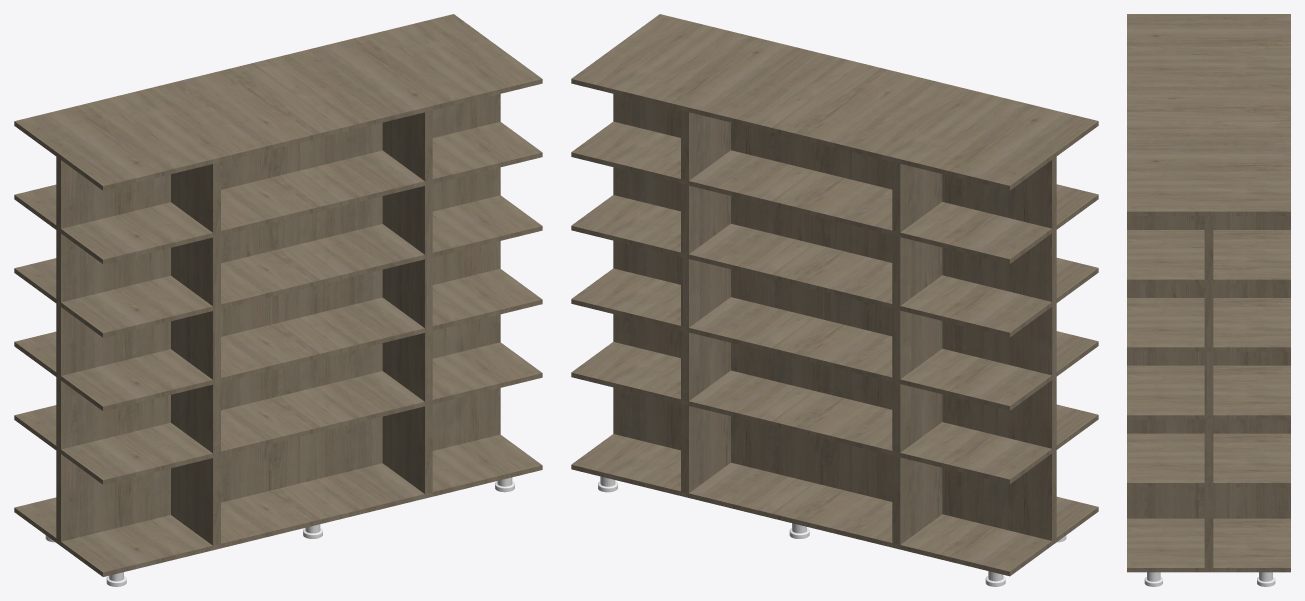
3 renders of one model, left to right at view 1: azimuth 30°, elevation 25°; view 2: azimuth 150°, elevation 25°; view 3: azimuth 270°, elevation 25°, orthographic. The views are drawn at different scales.
Parts seen in each view (by area): view 1: Box002, Box003, Box001, Box006, Box004, Box007, Box005, Box039, Box040; view 2: Box002, Box003, Box001, Box007, Box004, Box006, Box005, Box040, Box039; view 3: Box003, Box039, Box001, Box006, Box007, Box004, Box005, Box002, Cylinder003, Cylinder008.
Part boxes in pixels (x1=…): Box002: x1=56, y1=94, x2=500, y2=541; Box003: x1=14, y1=14, x2=542, y2=190; Box001: x1=14, y1=434, x2=542, y2=576; Box006: x1=14, y1=268, x2=542, y2=411; Box004: x1=14, y1=121, x2=542, y2=264; Box007: x1=14, y1=342, x2=542, y2=484; Box005: x1=14, y1=195, x2=542, y2=337; Box039: x1=382, y1=110, x2=432, y2=493; Box040: x1=171, y1=162, x2=220, y2=545; Box002: x1=613, y1=94, x2=1056, y2=540; Box003: x1=571, y1=14, x2=1098, y2=190; Box001: x1=571, y1=434, x2=1098, y2=576; Box007: x1=571, y1=342, x2=1098, y2=483; Box004: x1=571, y1=121, x2=1098, y2=263; Box006: x1=571, y1=268, x2=1098, y2=410; Box005: x1=571, y1=195, x2=1098, y2=337; Box040: x1=892, y1=162, x2=942, y2=544; Box039: x1=681, y1=110, x2=730, y2=493; Box003: x1=1127, y1=14, x2=1290, y2=215; Box039: x1=1127, y1=216, x2=1290, y2=518; Box001: x1=1127, y1=518, x2=1290, y2=572; Box006: x1=1127, y1=365, x2=1290, y2=419; Box007: x1=1127, y1=433, x2=1290, y2=487; Box004: x1=1127, y1=230, x2=1290, y2=283; Box005: x1=1127, y1=298, x2=1290, y2=351; Box002: x1=1204, y1=216, x2=1213, y2=567; Cylinder003: x1=1144, y1=572, x2=1162, y2=586; Cylinder008: x1=1257, y1=572, x2=1275, y2=586.
Bounding box in the file's own units: 2 × 1.8 × 0.7.
2 materials, 1 textured.
